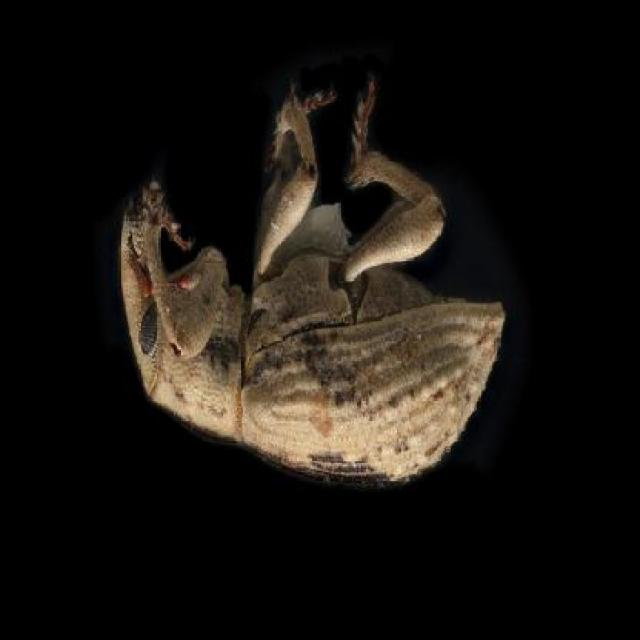rice-bug: (120, 72, 511, 482)
